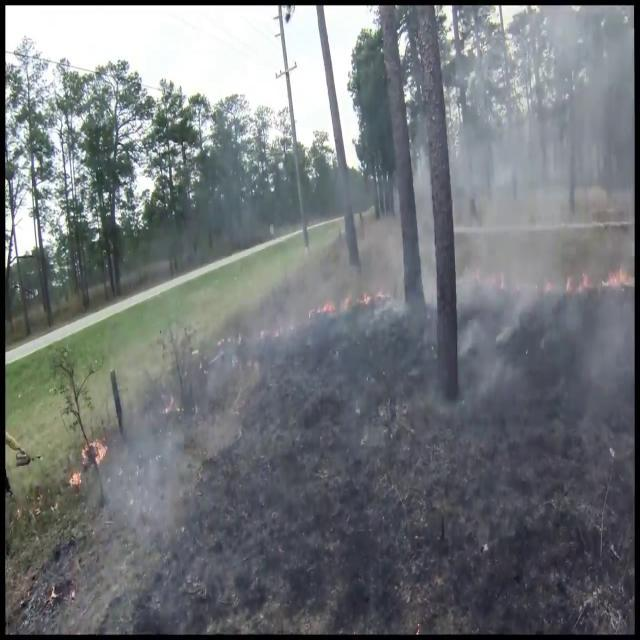Smoke: (406, 7, 634, 380), (90, 304, 264, 559)
